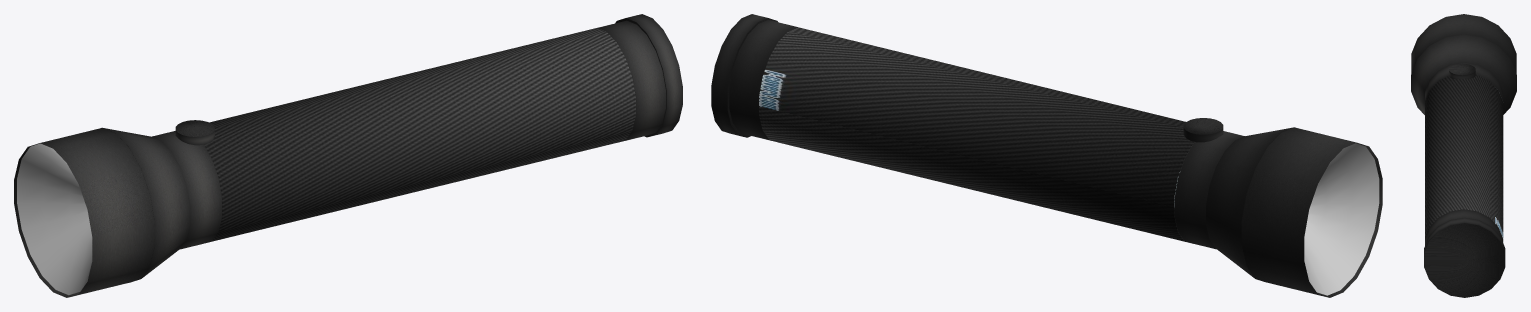
File: flashlight.FBX
The picture shows the model from 3 angles, left to right: view 1: azimuth 30°, elevation 25°; view 2: azimuth 150°, elevation 25°; view 3: azimuth 270°, elevation 25°; orthographic projection. The views are drawn at different scales.
Parts seen in each view (by area): view 1: Cylinder001, Cylinder004, Cylinder009, Cylinder002, Cylinder003, Cylinder008; view 2: Cylinder001, Cylinder004, Cylinder009, Cylinder002, Cylinder003, Cylinder008; view 3: Cylinder001, Cylinder004, Cylinder003, Cylinder002, Cylinder008.
Boxes of the visible parts, box(x1,y1,x2,y2) form: Cylinder001: box(204, 28, 635, 243); Cylinder004: box(14, 127, 221, 297); Cylinder009: box(17, 143, 92, 295); Cylinder002: box(597, 20, 665, 142); Cylinder003: box(615, 14, 682, 137); Cylinder008: box(175, 120, 214, 145); Cylinder001: box(759, 27, 1194, 243); Cylinder004: box(1174, 127, 1382, 297); Cylinder009: box(1304, 143, 1379, 295); Cylinder002: box(729, 20, 797, 141); Cylinder003: box(711, 14, 777, 137); Cylinder008: box(1183, 118, 1223, 142); Cylinder001: box(1425, 74, 1503, 242); Cylinder004: box(1411, 14, 1516, 114); Cylinder003: box(1424, 217, 1505, 297); Cylinder002: box(1425, 209, 1502, 245); Cylinder008: box(1449, 63, 1475, 79).
Bounding box in the file's own units: 188 × 43.2 × 42.54.
